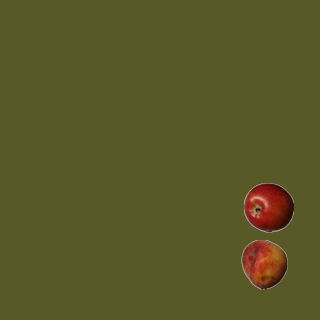Apple Braeburn: (243, 182, 293, 232)
Peach: (239, 239, 289, 289)
